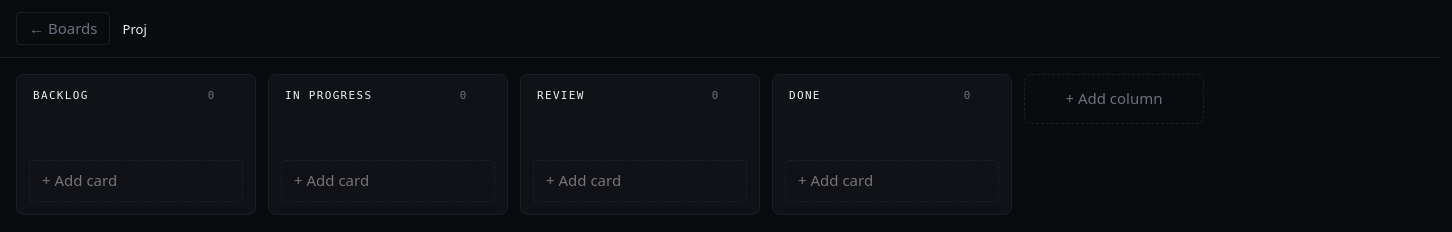
Kanban column management › adds a column
This screenshot has width=1452, height=232.
Click the button "+ Add column" at coordinates (1114, 99), box [1024, 74, 1204, 124]
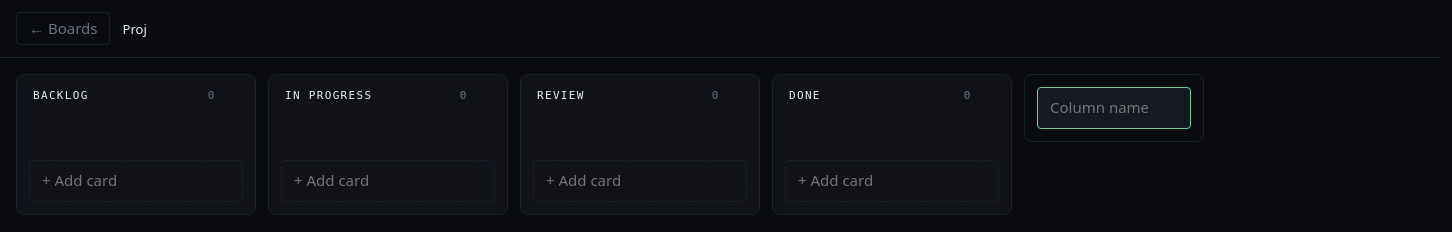
Type "Ideas" into the field with placeholder "Column name" at coordinates (1114, 108), box [1037, 87, 1191, 129]
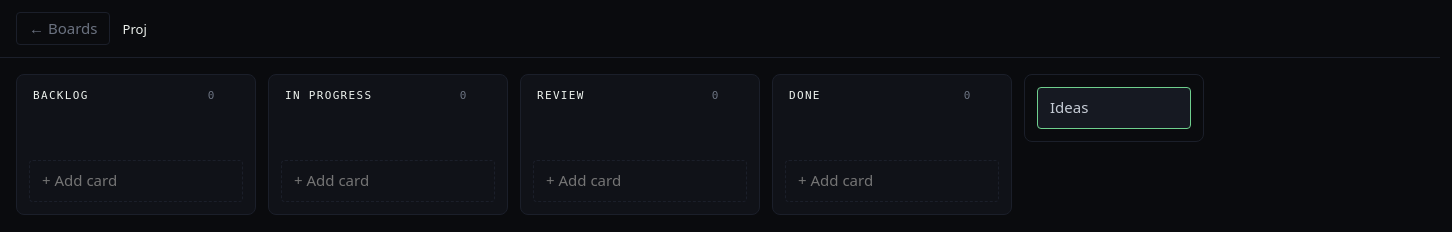
Leave the field with placeholder "Column name", box [1037, 87, 1191, 129]
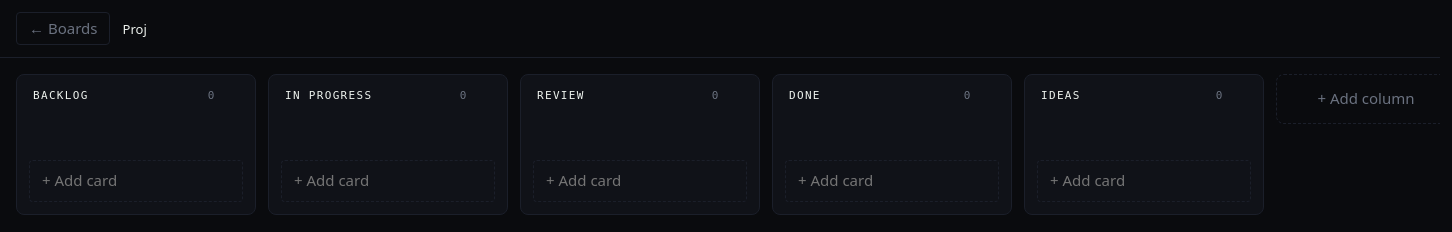
Expected: the text "Ideas" is shown, [1041, 89, 1081, 102]
